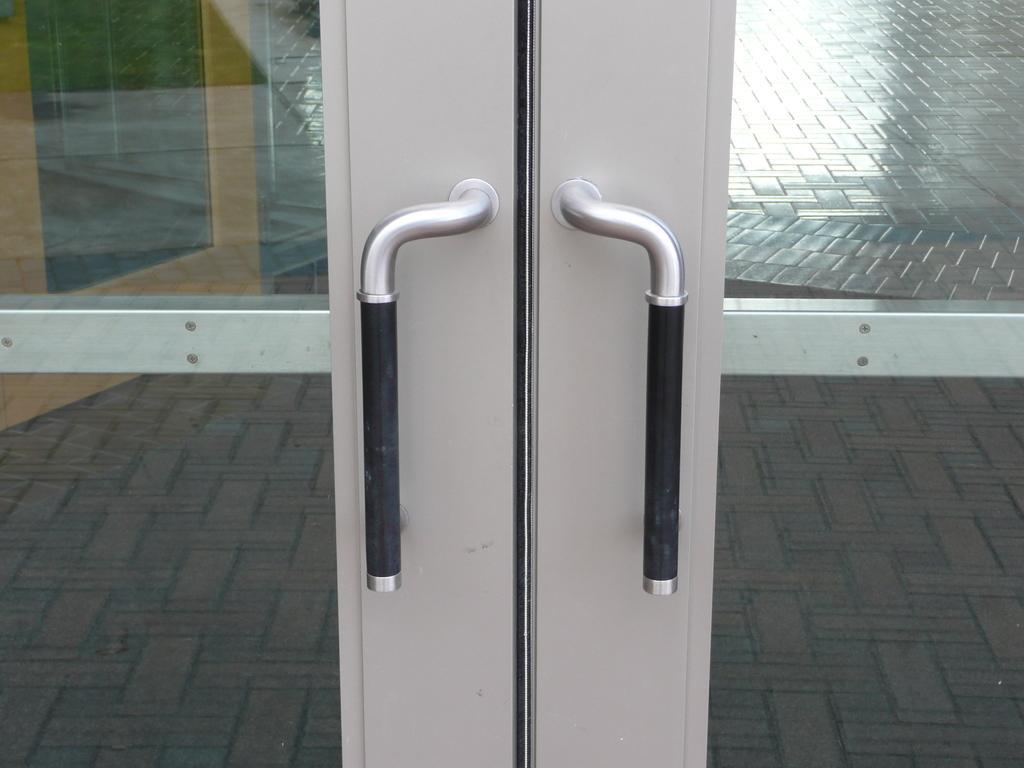door: (7, 10, 505, 758), (546, 9, 1016, 762)
handle: (346, 168, 494, 596), (554, 186, 690, 600)
